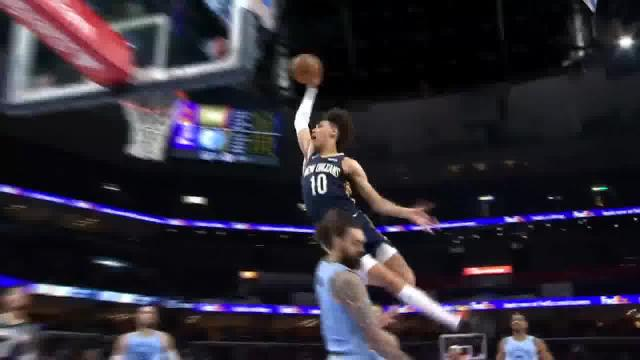ball-handler: (277, 48, 439, 326)
player: (303, 206, 417, 360)
